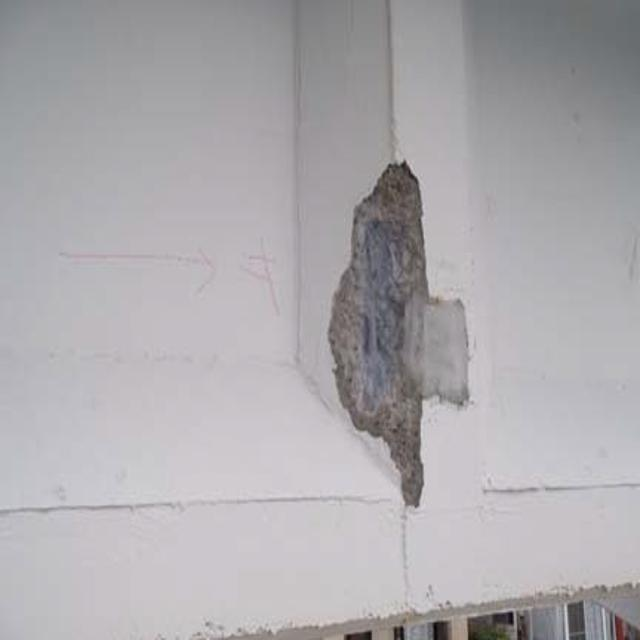spalling: (320, 145, 483, 504)
